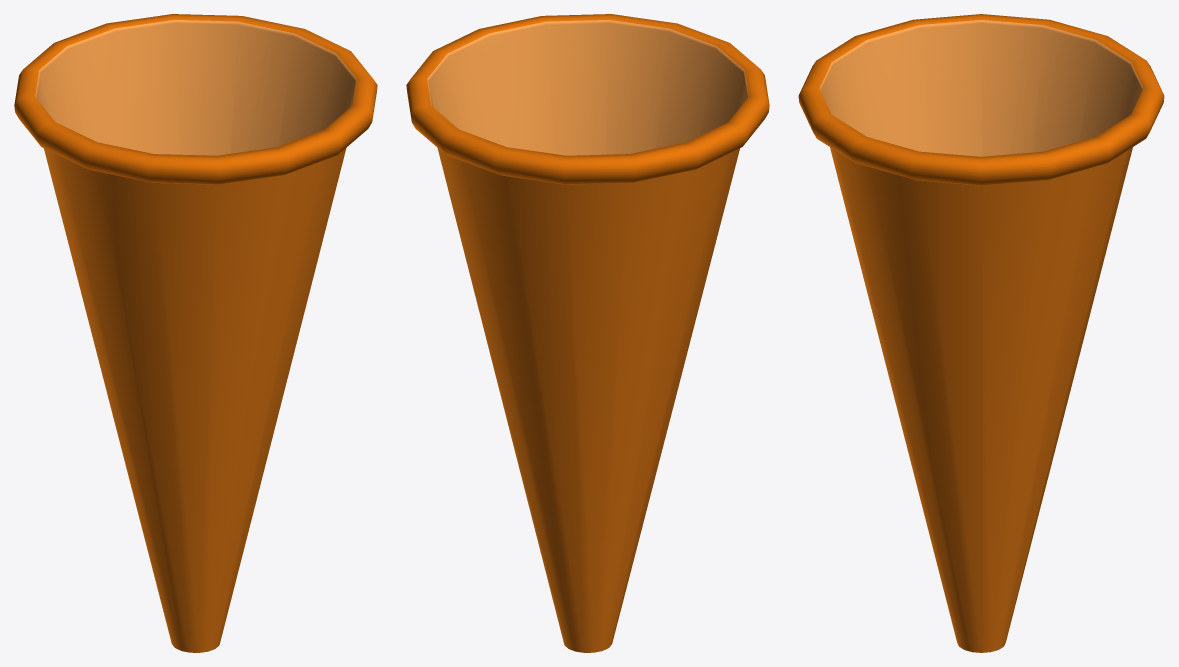
The model's file is Cone A Brown.fbx.
3 views of the same model, side by side, from view 1: azimuth 30°, elevation 25°; view 2: azimuth 150°, elevation 25°; view 3: azimuth 270°, elevation 25° (orthographic).
Visible parts, largest first — view 1: Cone A Brown; view 2: Cone A Brown; view 3: Cone A Brown.
Part boxes in pixels (x1=…): Cone A Brown: x1=14, y1=14, x2=377, y2=652; Cone A Brown: x1=406, y1=14, x2=769, y2=652; Cone A Brown: x1=798, y1=14, x2=1164, y2=652.
Size of the model in its own units: 0.4323 by 0.7225 by 0.4323.
